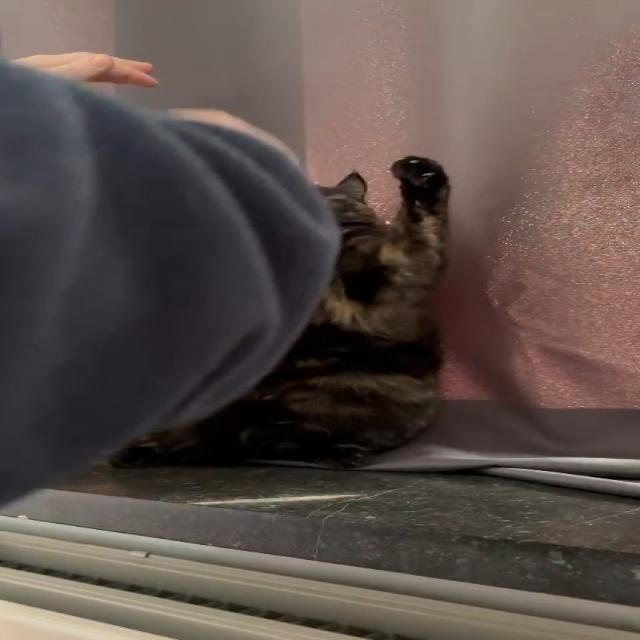authorized: (108, 155, 453, 469)
